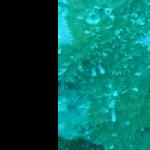dead: (61, 9, 149, 148)
